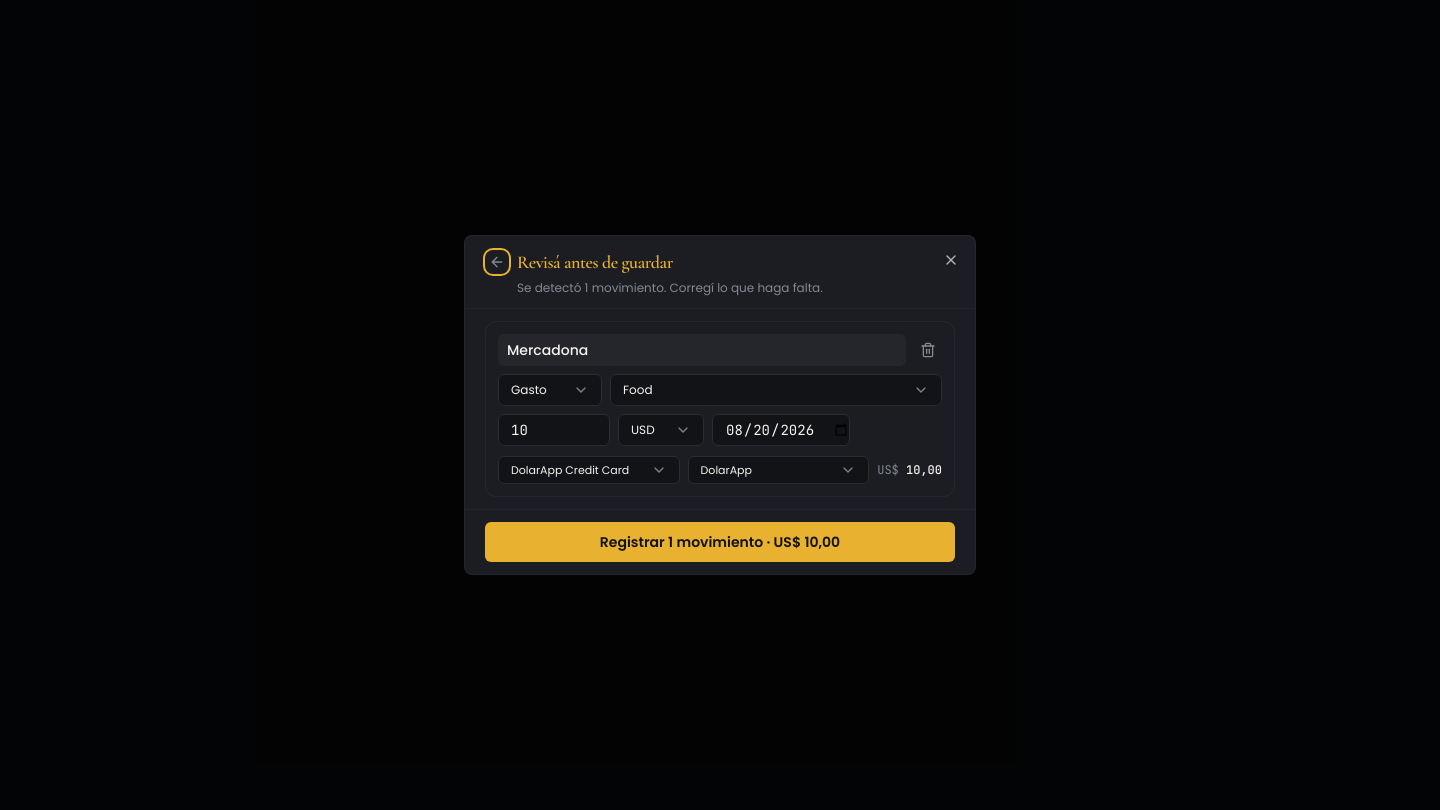
Test: ReviewExtractedSheet › borrar el monto bloquea, en vez de guardar un movimiento de cero
This screenshot has width=1440, height=810.
Clear the number field showing "10": (554, 430) [498,414,610,446]
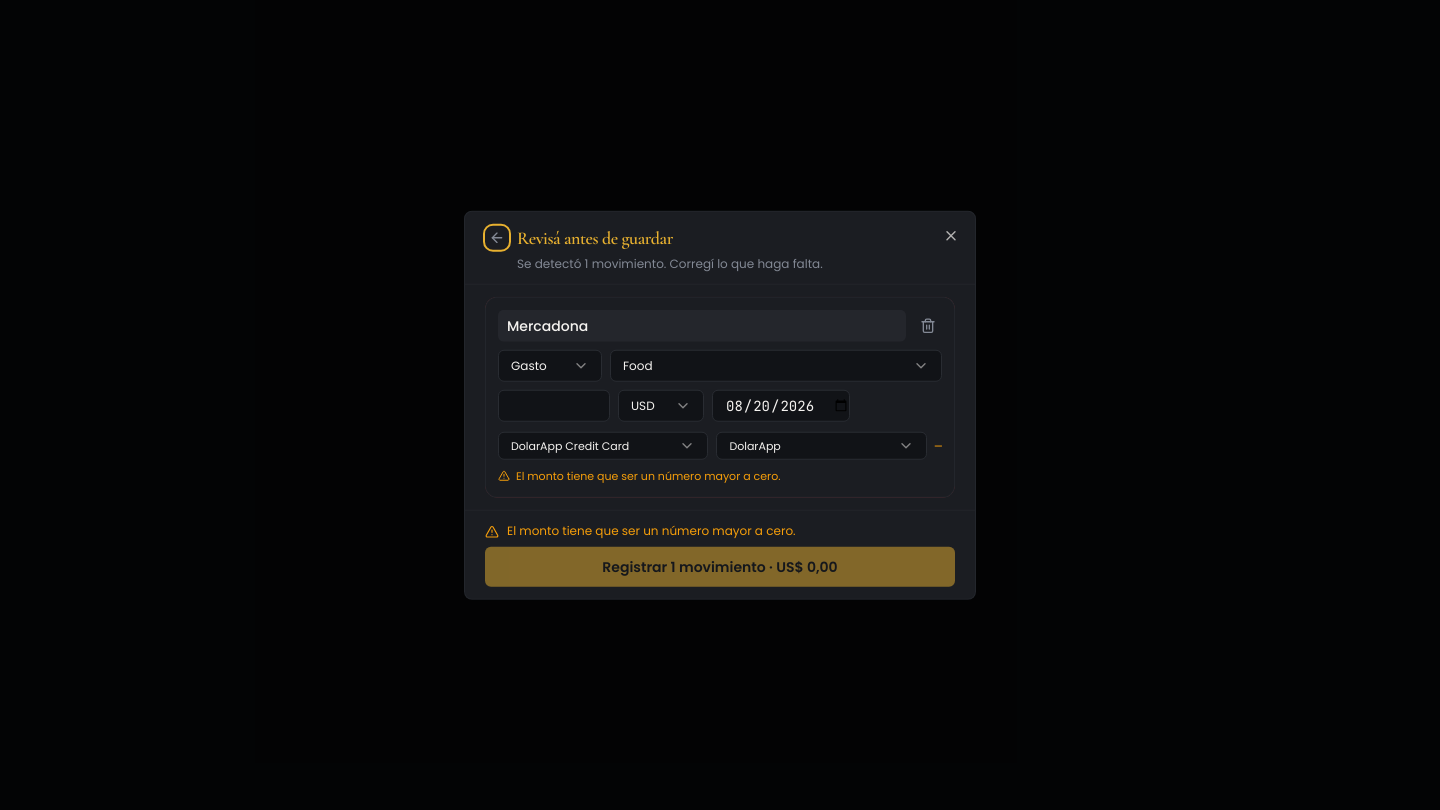
Now the button "Registrar 1 movimiento · US$ 0,00" is disabled, box [485,546,955,586]
Now the 1st text "El monto tiene que ser un número mayor a cero." is shown, box [516,468,780,484]
